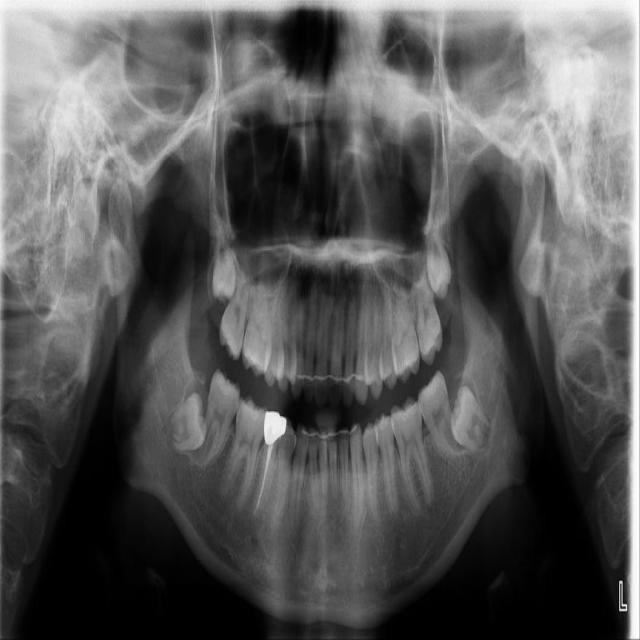Crown: (263, 407, 287, 454)
Root Canal Treatment: (252, 444, 272, 512)
